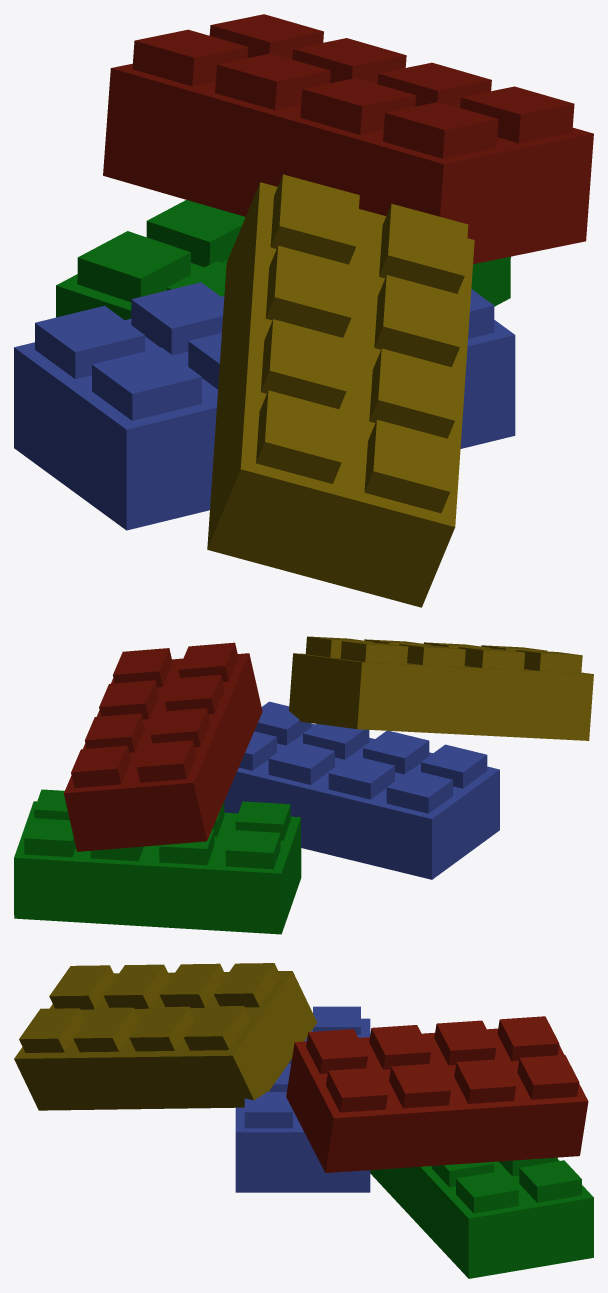
Rendered from PlasticToy.fbx.
The picture shows the model from 3 angles, top to bottom: view 1: azimuth 30°, elevation 25°; view 2: azimuth 150°, elevation 25°; view 3: azimuth 270°, elevation 25°; orthographic projection. The views are drawn at different scales.
Parts seen in each view (by area): view 1: PlasticBrick.001, PlasticBrick.003, PlasticBricks, PlasticBrick.002; view 2: PlasticBrick.003, PlasticBricks, PlasticBrick.002, PlasticBrick.001; view 3: PlasticBrick.003, PlasticBrick.001, PlasticBrick.002, PlasticBricks.
Boxes of the visible parts, left/top/right/bottom form: PlasticBrick.001: left=207, top=174, right=474, bottom=607; PlasticBrick.003: left=103, top=14, right=593, bottom=264; PlasticBricks: left=14, top=282, right=515, bottom=530; PlasticBrick.002: left=56, top=200, right=510, bottom=319; PlasticBrick.003: left=64, top=642, right=262, bottom=851; PlasticBricks: left=224, top=701, right=499, bottom=879; PlasticBrick.002: left=14, top=789, right=301, bottom=934; PlasticBrick.001: left=289, top=636, right=593, bottom=740; PlasticBrick.003: left=286, top=1016, right=588, bottom=1172; PlasticBrick.001: left=14, top=963, right=317, bottom=1110; PlasticBrick.002: left=370, top=1157, right=593, bottom=1278; PlasticBricks: left=235, top=1006, right=370, bottom=1192.
Bounding box in the file's own units: 419 × 221 × 574.
